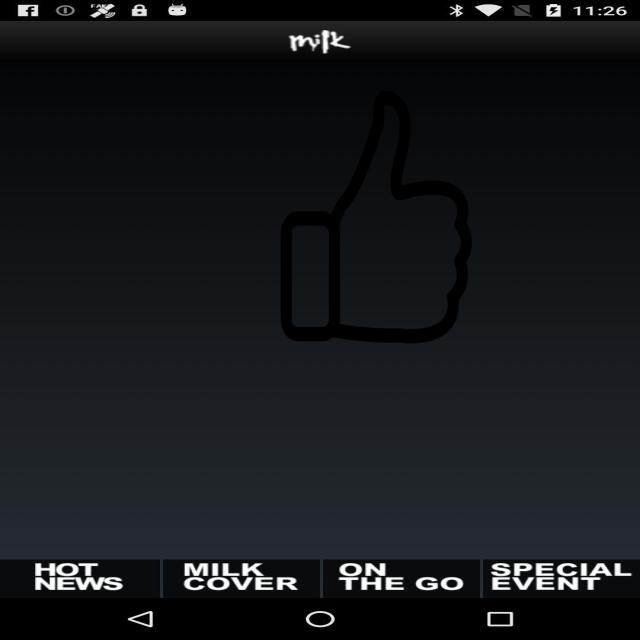privacy zuckering: (278, 91, 475, 343)
